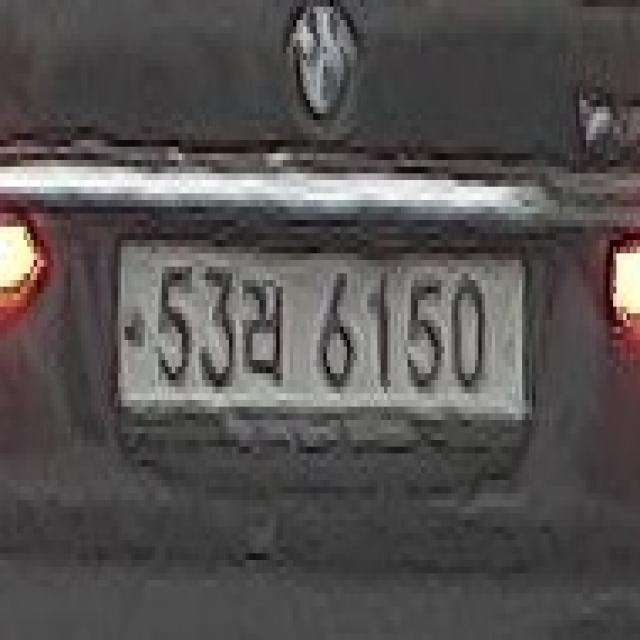0: (444, 267, 488, 393)
1: (357, 267, 401, 400)
3: (195, 254, 242, 394)
5: (145, 253, 199, 400), (408, 267, 444, 400)
6: (316, 253, 361, 407)
leo: (236, 266, 290, 386)
license_plate: (105, 233, 532, 447)
